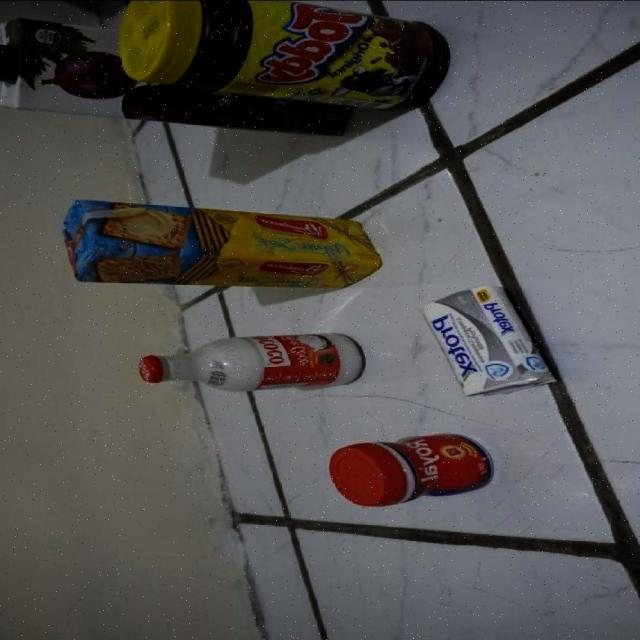ChocolatePowder: (118, 0, 451, 112)
CoconutMilk: (137, 331, 366, 393)
Cracker: (61, 199, 383, 290)
Soap: (419, 284, 562, 396)
Yeast: (327, 432, 494, 507)
